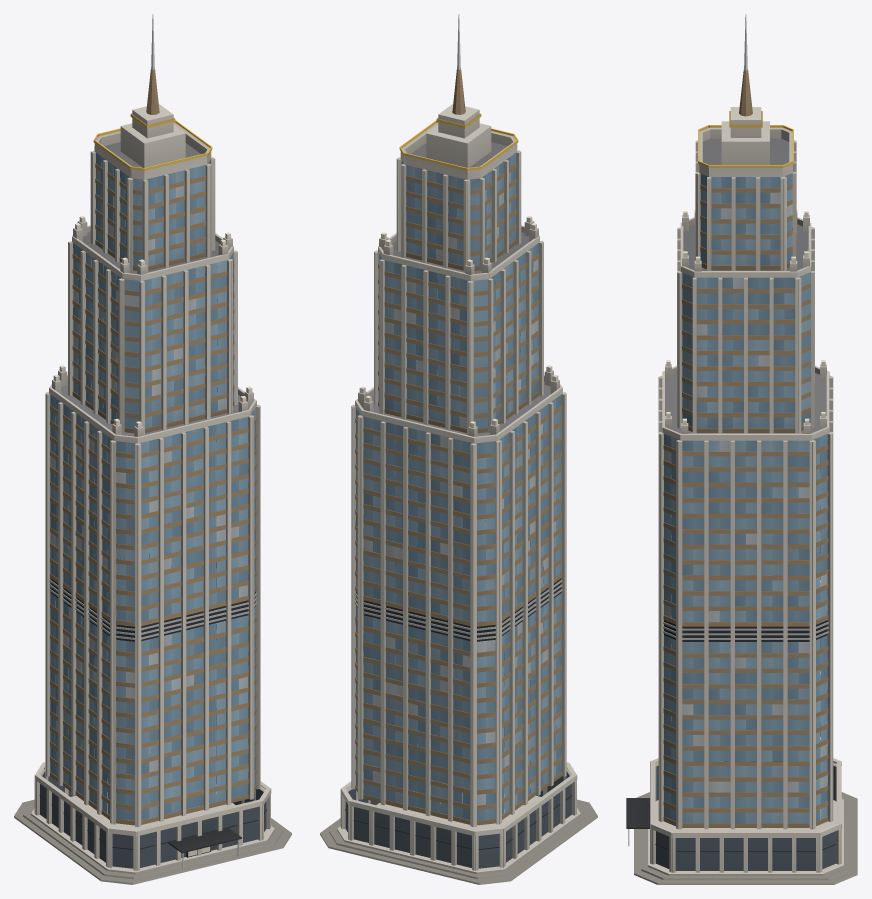
The picture shows the model from 3 angles, left to right: view 1: azimuth 30°, elevation 25°; view 2: azimuth 150°, elevation 25°; view 3: azimuth 270°, elevation 25°; orthographic projection.
Visible parts, largest first — view 1: t6; view 2: t6; view 3: t6.
Part boxes in pixels (x1,y1,x2,y2): t6: [14, 14, 291, 884]; t6: [320, 14, 597, 884]; t6: [626, 14, 857, 884].
Bounding box in the file's own units: 50.99 × 207 × 52.8.
